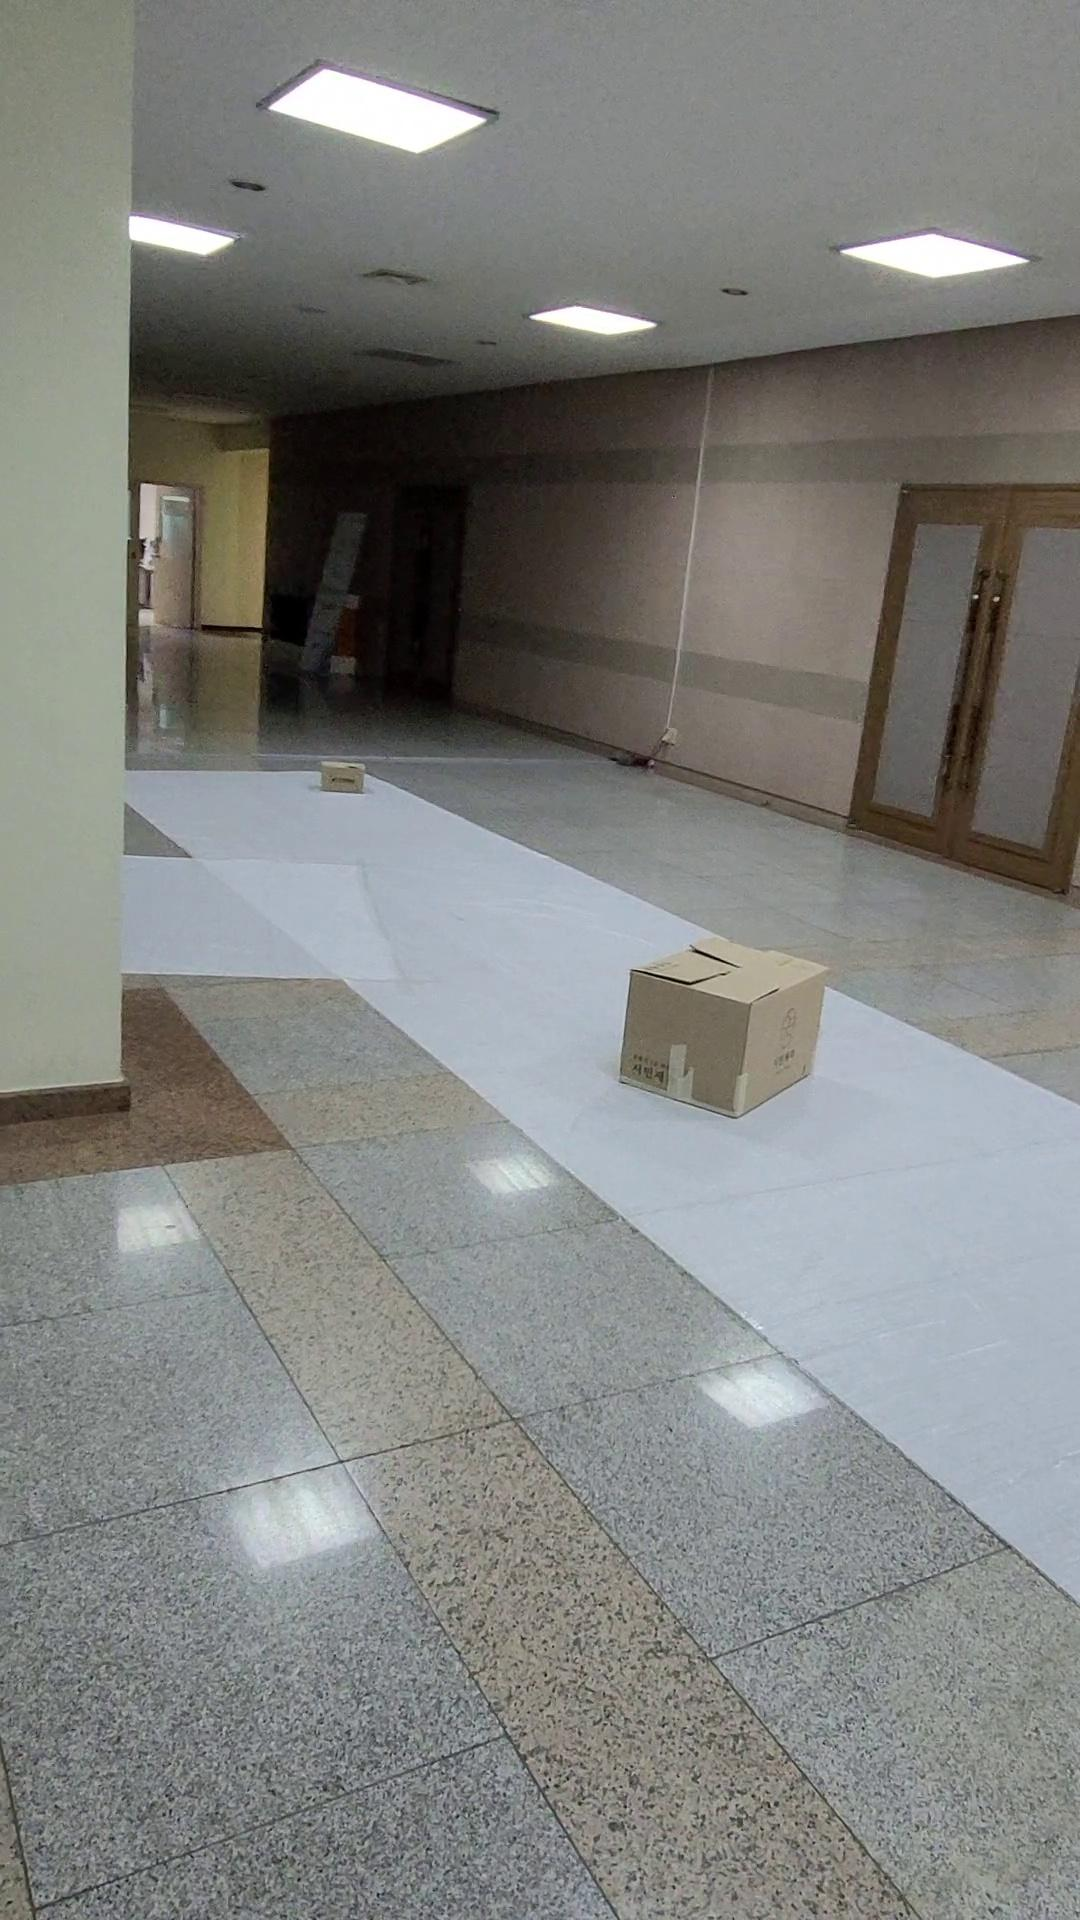Box: (512, 862, 880, 1164), (276, 735, 400, 843)
